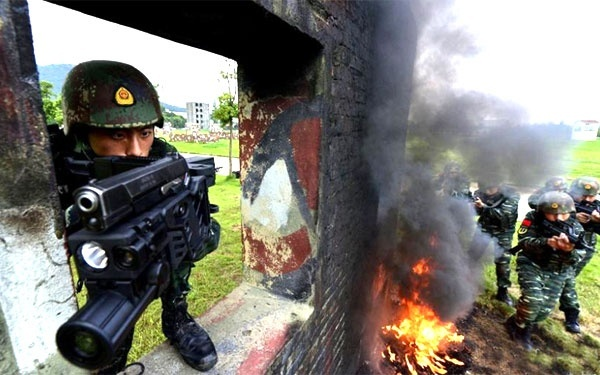fire: (378, 258, 467, 371)
